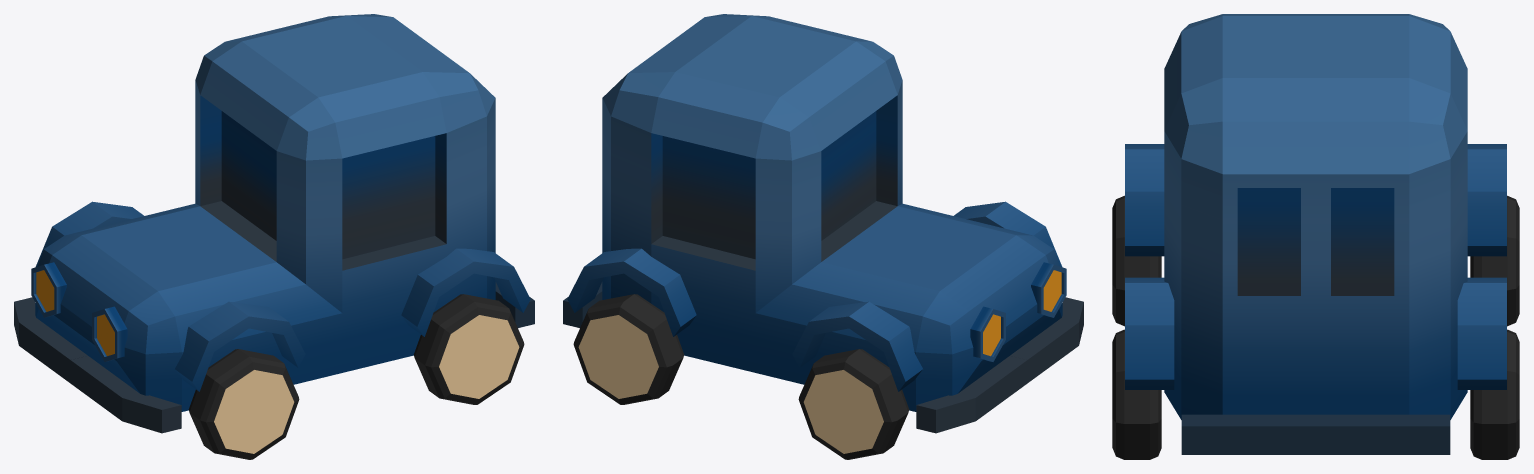
Rendered from BlueCar.fbx.
3 renders of one model, left to right at view 1: azimuth 30°, elevation 25°; view 2: azimuth 150°, elevation 25°; view 3: azimuth 270°, elevation 25°, orthographic. The views are drawn at different scales.
Parts seen in each view (by area): view 1: streetview.001; view 2: streetview.001; view 3: streetview.001.
Boxes of the visible parts, x1=… form: streetview.001: x1=14, y1=14, x2=534, y2=459; streetview.001: x1=563, y1=14, x2=1083, y2=459; streetview.001: x1=1112, y1=14, x2=1519, y2=459.
Size of the model in its own units: 11.83 by 8.46 by 8.37.
